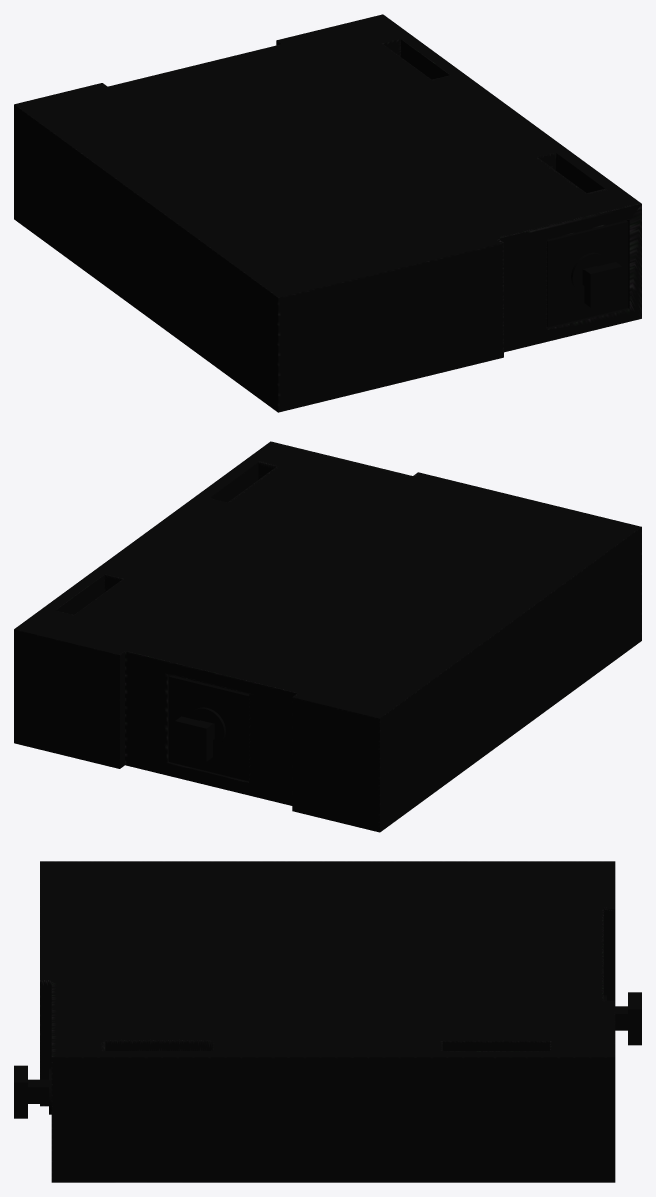
File: LeguLeteron_Botton_Control_Case.fbx
3 views of the same model, one above another, from view 1: azimuth 30°, elevation 25°; view 2: azimuth 150°, elevation 25°; view 3: azimuth 270°, elevation 25° (orthographic). The views are drawn at different scales.
Visible parts, largest first — view 1: node_id808, node_id4988, node_id4982 (×2); view 2: node_id808, node_id5017, node_id5023 (×2); view 3: node_id808, node_id4982 (×2), node_id5023.
Part boxes in pixels (bbox=[...]): node_id808: bbox=[14, 14, 641, 412]; node_id4988: bbox=[547, 220, 628, 327]; node_id4982 (×2): bbox=[571, 252, 622, 307]; node_id808: bbox=[14, 441, 641, 832]; node_id5017: bbox=[169, 675, 248, 781]; node_id5023 (×2): bbox=[175, 707, 225, 761]; node_id808: bbox=[40, 861, 615, 1182]; node_id4982 (×2): bbox=[14, 1065, 48, 1118]; node_id5023: bbox=[628, 992, 641, 1045].
Bounding box in the file's own units: 0.83 × 0.2469 × 1.12.
9 materials, 9 textured.
